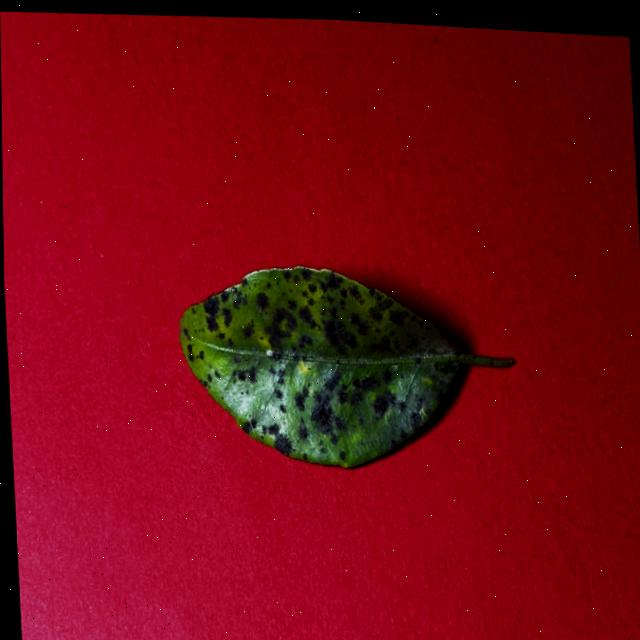sooty_mold: (178, 266, 511, 467)
